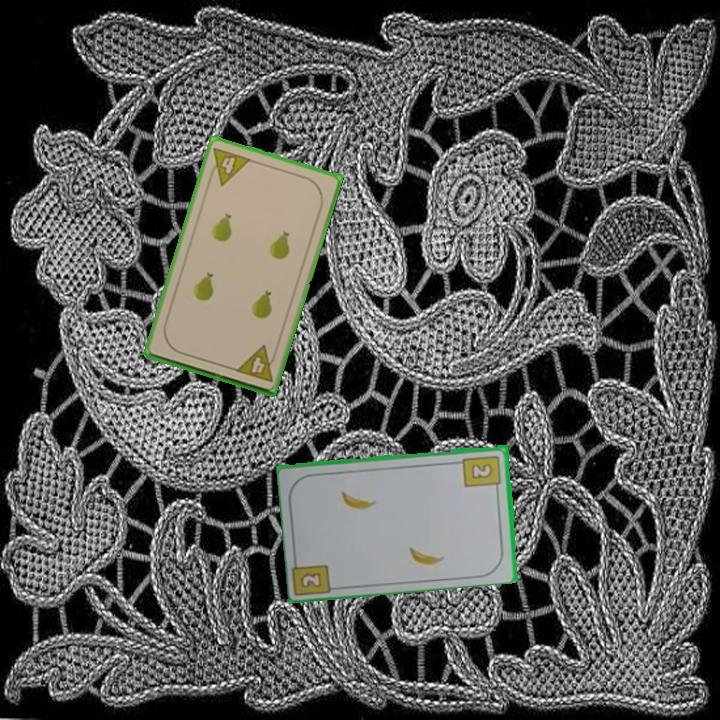2b: (460, 451, 504, 493), (299, 571, 322, 589)
4p: (204, 143, 254, 188), (232, 342, 280, 385)
